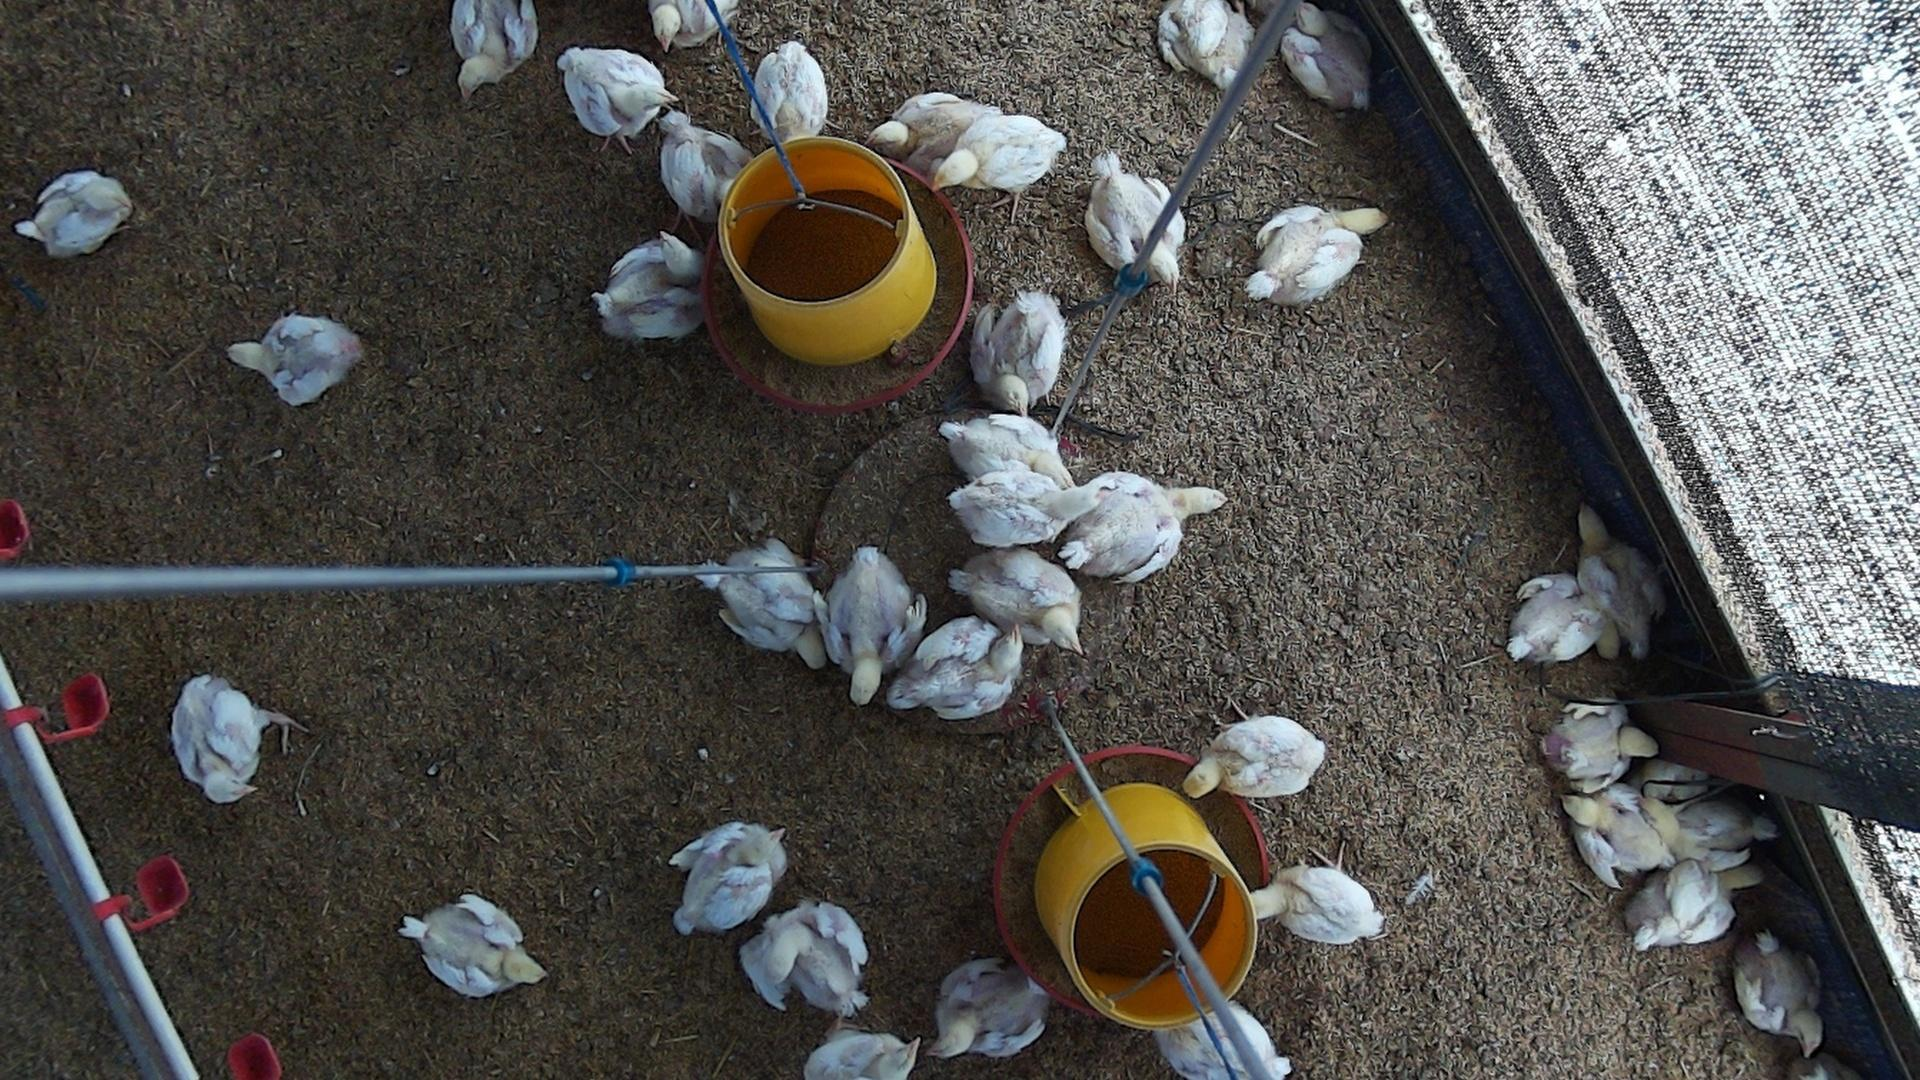ayam_broiler: (1059, 471, 1224, 582), (171, 674, 306, 803), (688, 545, 827, 670), (824, 545, 924, 703), (740, 901, 870, 1018), (400, 893, 546, 996), (1246, 204, 1387, 305), (1085, 153, 1187, 289), (932, 116, 1064, 220), (887, 617, 1022, 719), (949, 549, 1084, 650), (1249, 844, 1382, 944), (670, 822, 786, 932), (1577, 505, 1660, 658), (228, 314, 363, 405), (971, 286, 1068, 411), (1182, 716, 1327, 799), (928, 959, 1047, 1059), (593, 232, 704, 338), (1564, 785, 1680, 882), (947, 473, 1102, 546), (1155, 998, 1290, 1080), (865, 91, 1002, 170), (1734, 931, 1821, 1055), (1630, 862, 1754, 948), (1650, 781, 1775, 865), (940, 413, 1076, 489), (15, 170, 133, 255), (559, 49, 674, 136), (1507, 570, 1611, 662), (1544, 703, 1658, 787), (1282, 4, 1370, 108), (450, 0, 541, 95), (661, 109, 740, 218), (1158, 0, 1253, 88), (752, 40, 828, 144), (806, 1025, 919, 1079)
